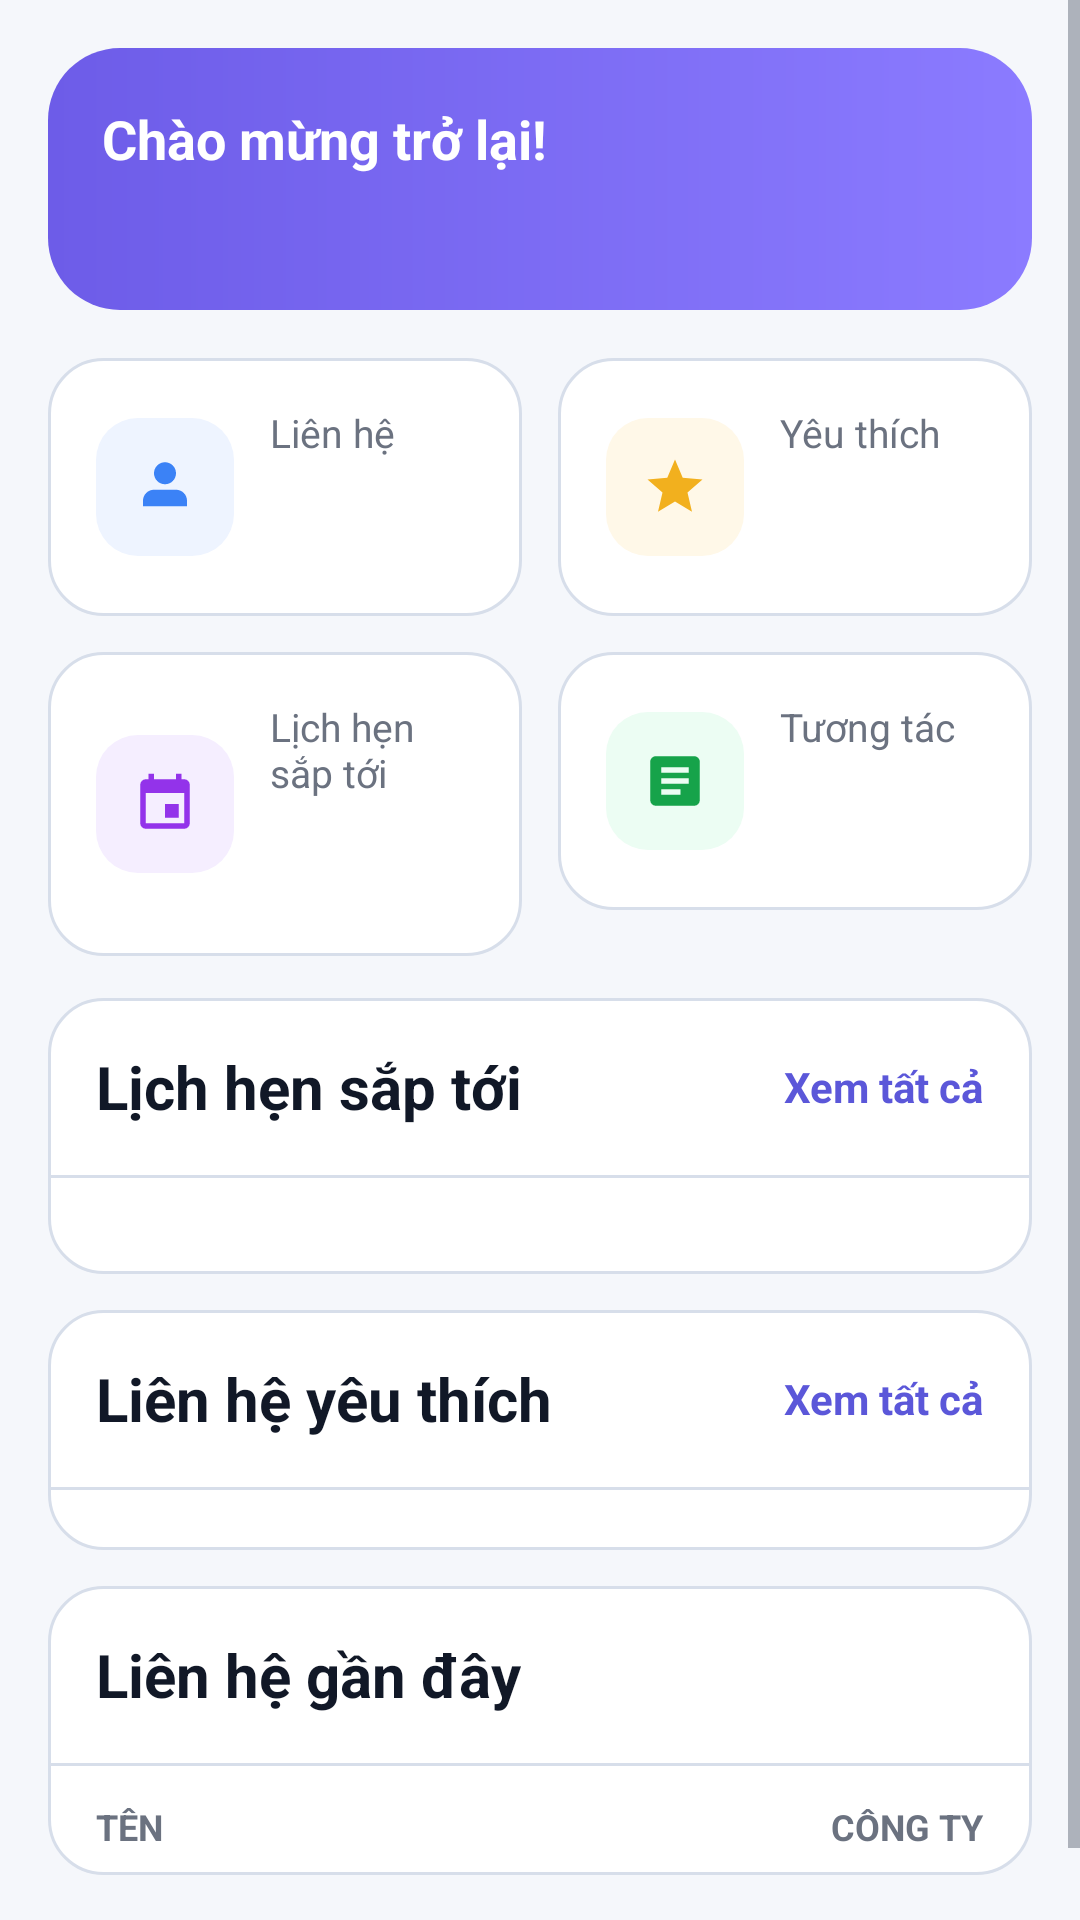

Where icons sit on this 1080 x 1920 app screen, as (x1, y1, x2, y2):
calendar: (140, 773, 190, 829)
notes: (650, 756, 700, 806)
people: (143, 462, 187, 507)
star: (648, 460, 702, 512)
